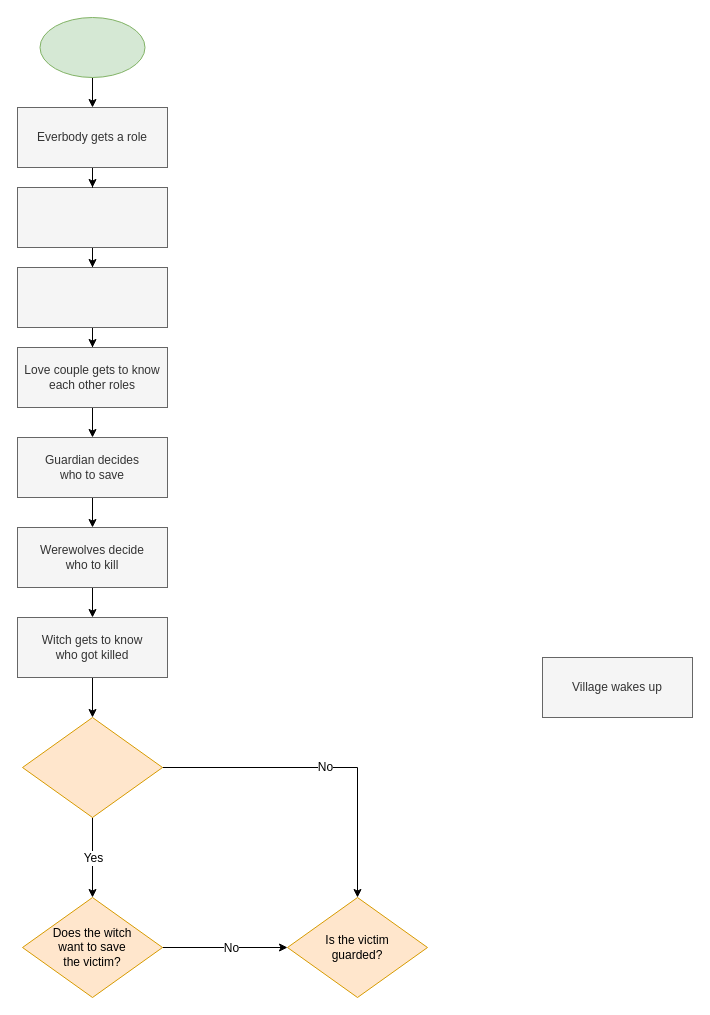
Some shapes in this 710 by 1015 pixel diagram are drawn without their labels. The centre of each missing label's shape, as x and y in pixels:
Armor decides love couple: the point at 92,297
Does the witch have a healing potion left?: the point at 92,767
Start: the point at 92,47
Village goes to sleep: the point at 92,217
